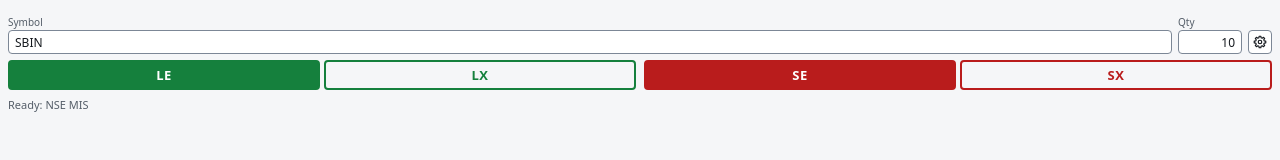
Test: placing orders › shows the server message when OpenAlgo succeeds without an order
Expected: the element named "Order pad" is shown, [8,16,1272,90]
What coordinates should you click on to do the following:
click the button "LX"
I would click on:
 (480, 75)
Its box is [324,60,636,90].
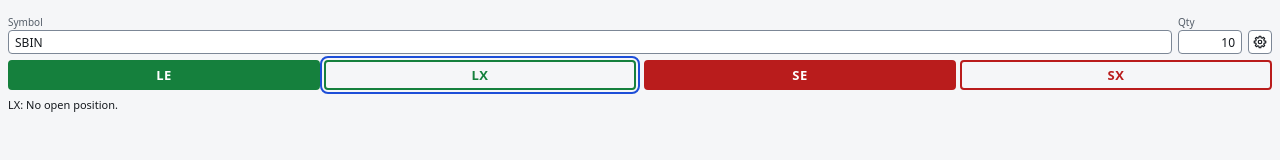
Expected: the message reads "LX: No open position.", [8,97,118,112]
